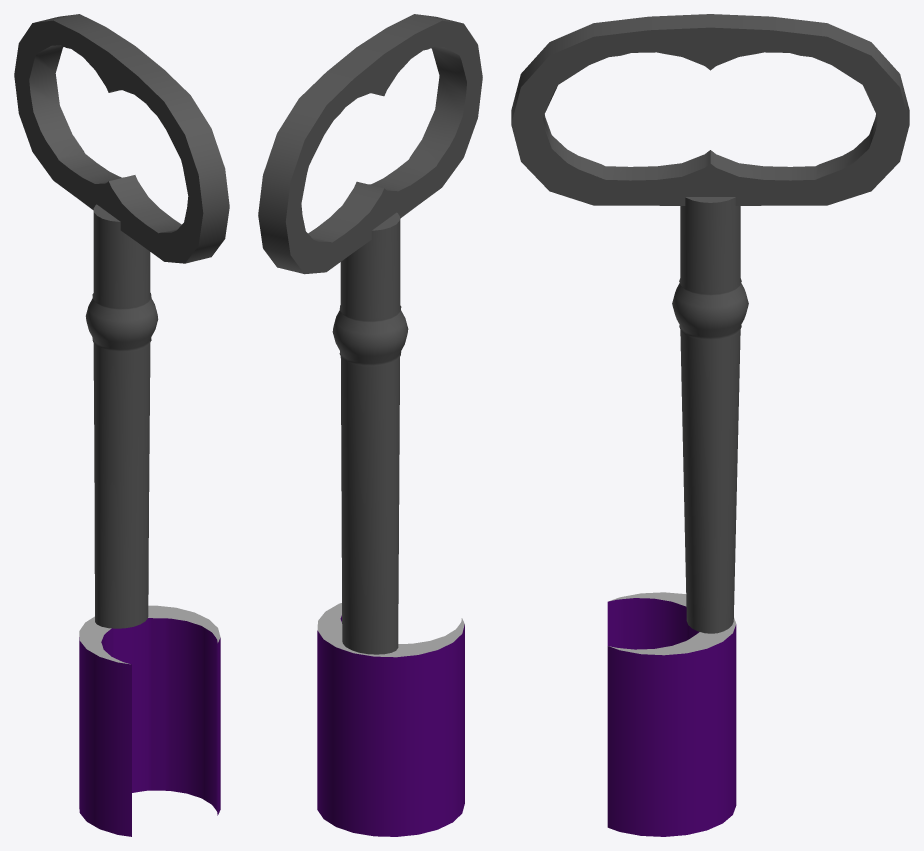
The model's file is padlock7.fbx.
The picture shows the model from 3 angles, left to right: view 1: azimuth 30°, elevation 25°; view 2: azimuth 150°, elevation 25°; view 3: azimuth 270°, elevation 25°; orthographic projection. The views are drawn at different scales.
Visible parts, largest first — view 1: pCylinder38; view 2: pCylinder38; view 3: pCylinder38.
Part boxes in pixels (bbox=[...]): pCylinder38: bbox=[14, 14, 229, 836]; pCylinder38: bbox=[258, 14, 482, 836]; pCylinder38: bbox=[511, 14, 909, 836].
Size of the model in its own units: 2.15 by 12.44 by 5.74.
